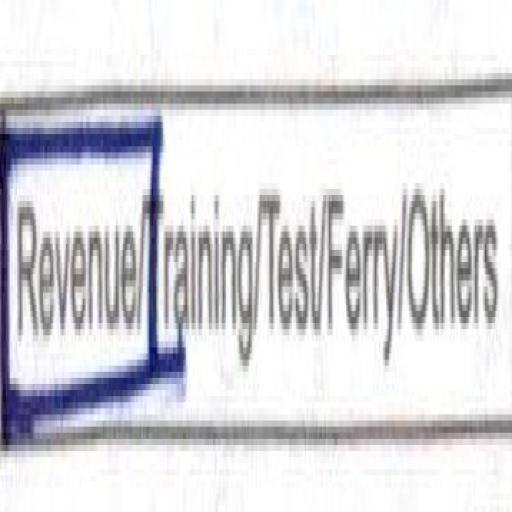check: (0, 66, 145, 504)
